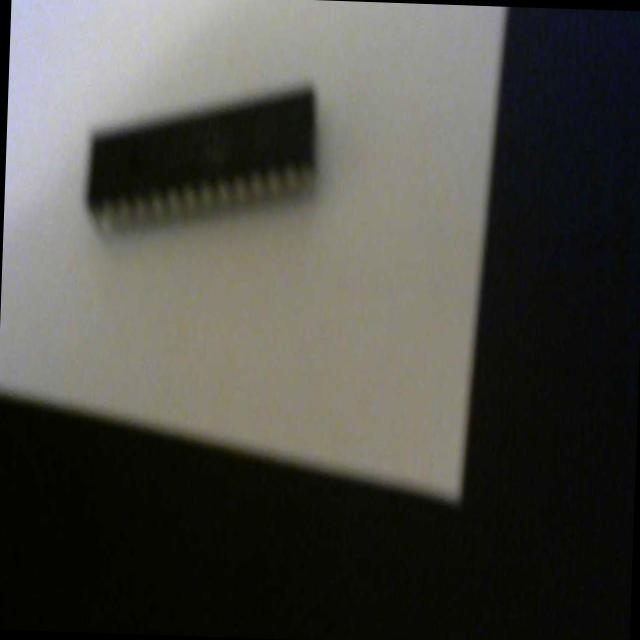atmega: (77, 69, 331, 250)
